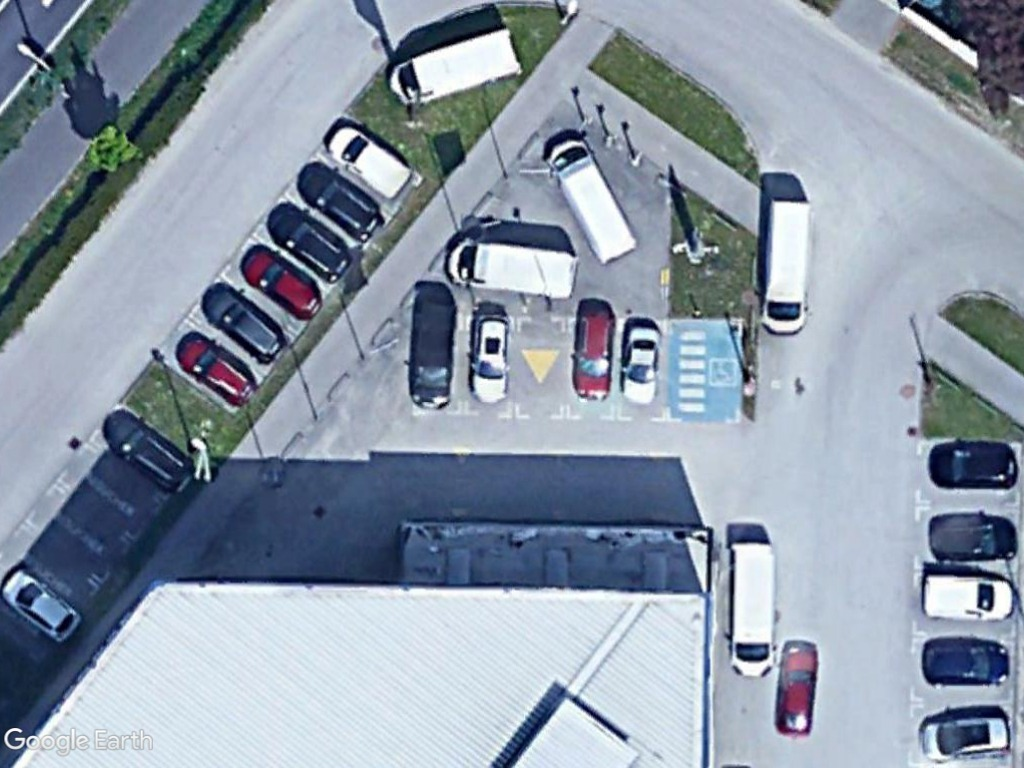car: (295, 160, 386, 245), (104, 414, 195, 496), (200, 287, 288, 365), (0, 565, 80, 646), (239, 248, 328, 320), (271, 207, 352, 283), (175, 336, 259, 408), (918, 571, 1016, 625), (924, 439, 1018, 495), (917, 713, 1015, 765), (772, 642, 825, 738), (568, 305, 618, 405), (922, 637, 1013, 690), (925, 514, 1019, 565), (466, 307, 513, 408), (615, 323, 666, 408)
van: (547, 135, 640, 267), (382, 27, 526, 109), (445, 237, 579, 302), (755, 194, 815, 338), (725, 537, 777, 683), (325, 124, 417, 201), (408, 293, 458, 409)
